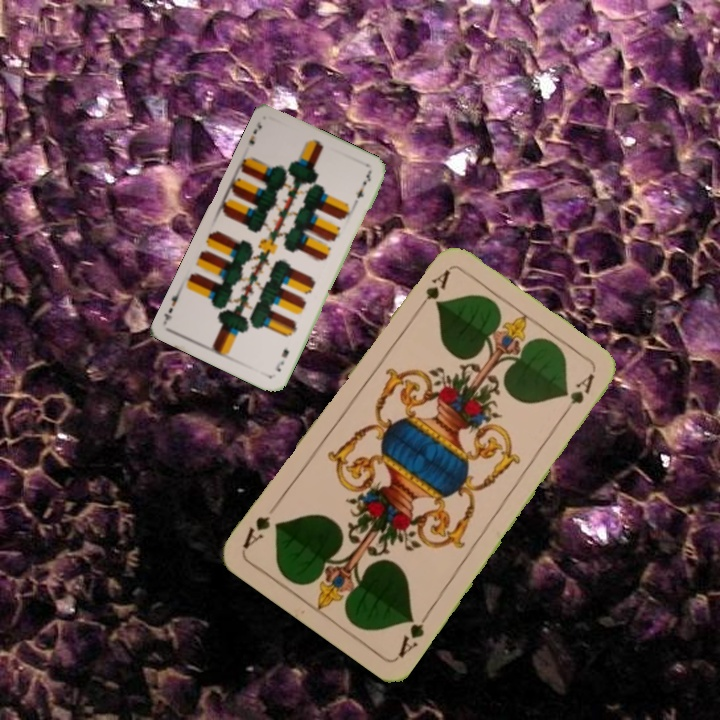E7: (271, 344, 292, 374), (245, 117, 264, 147)
GA: (410, 265, 453, 317), (393, 608, 433, 661)
